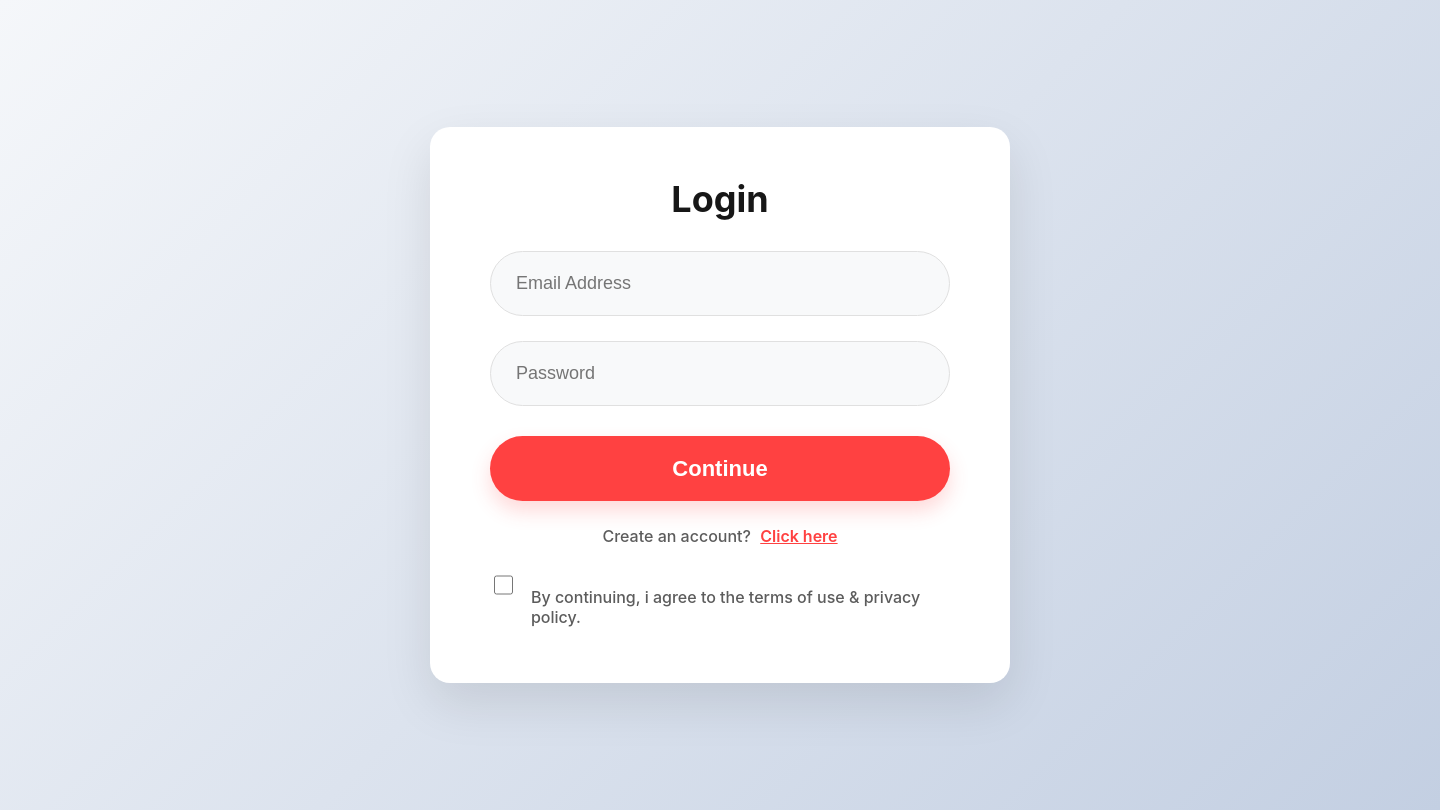
Test case: LoginSignup Page Integration Tests › Login Flow › displays error message on login failure
Type "wrong@example.com" into the field with placeholder "Email Address". click: x=720, y=284
box: x1=490 y1=251 x2=950 y2=316
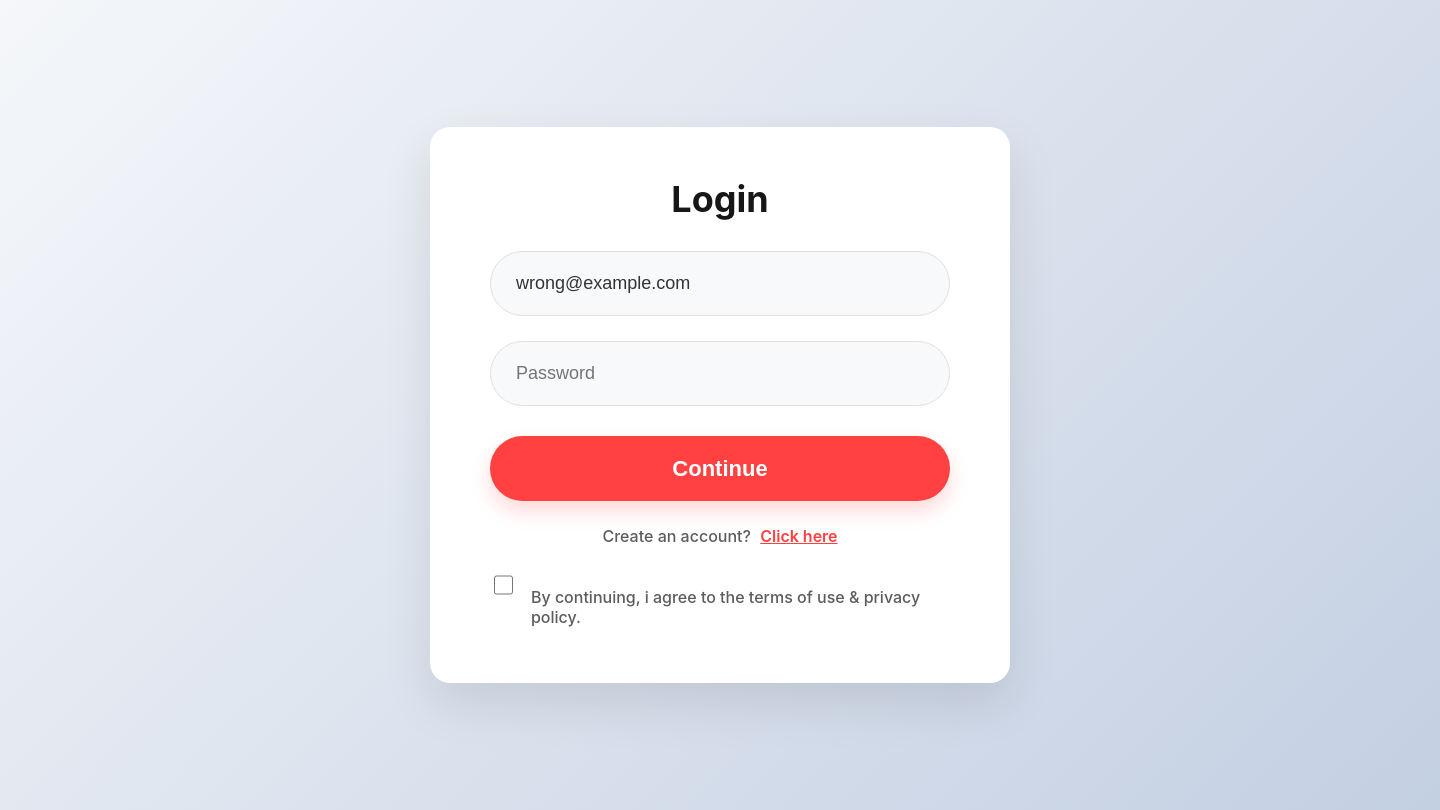
Type "wrong" into the password field with placeholder "Password". click: x=720, y=374
box: x1=490 y1=341 x2=950 y2=406
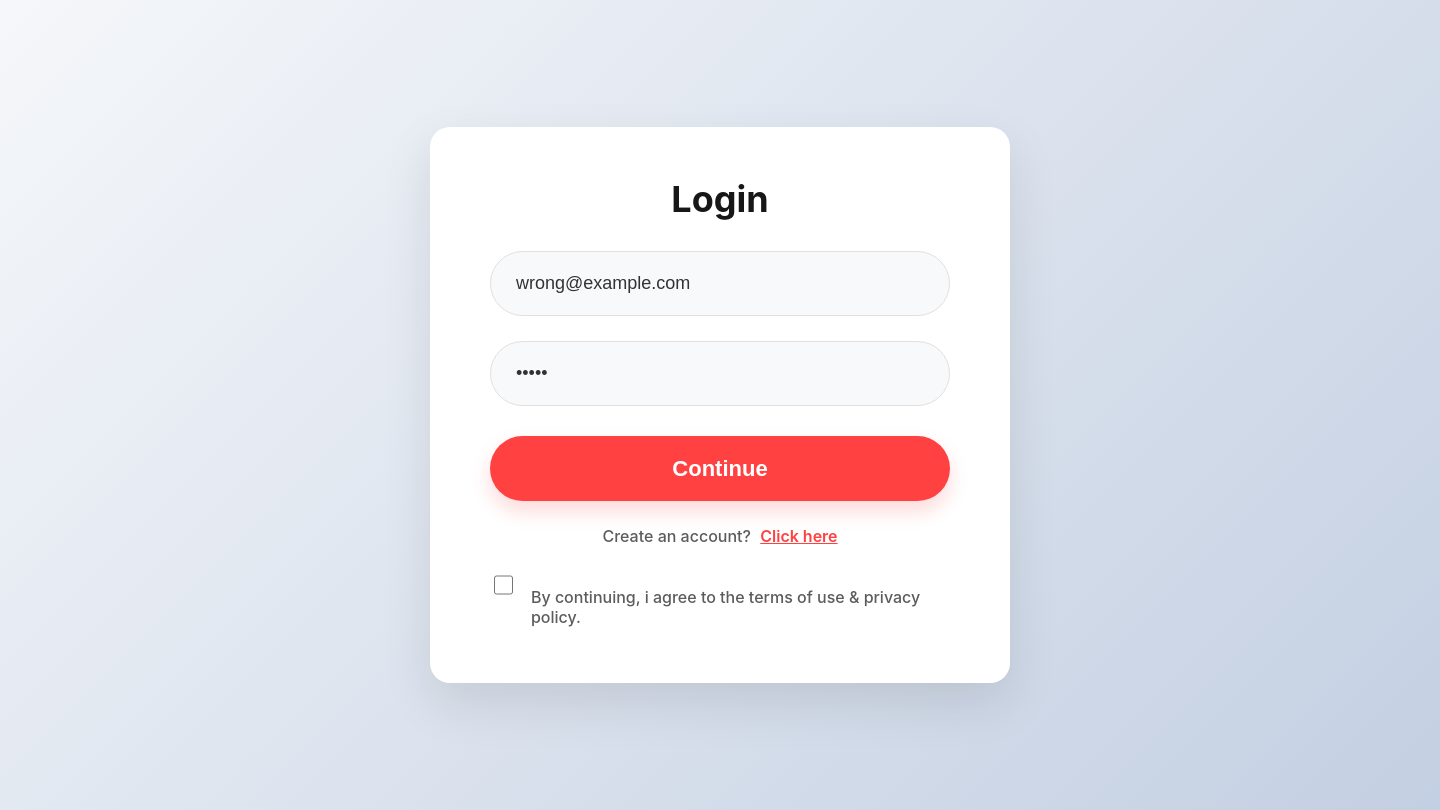
Click the button "Continue". click: x=720, y=468
box: x1=490 y1=436 x2=950 y2=501
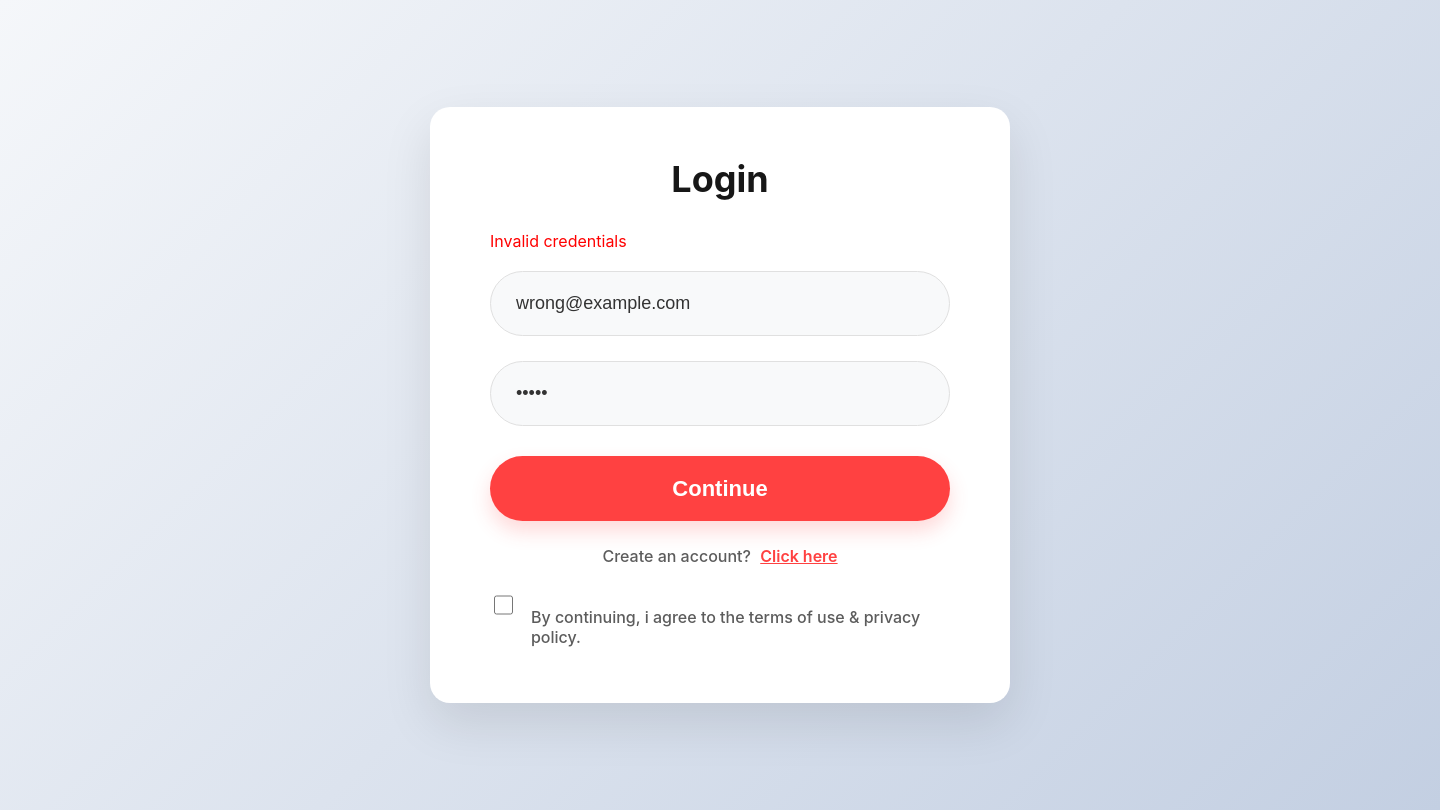
Now the text "Invalid credentials" is shown, box x1=490 y1=231 x2=627 y2=251
